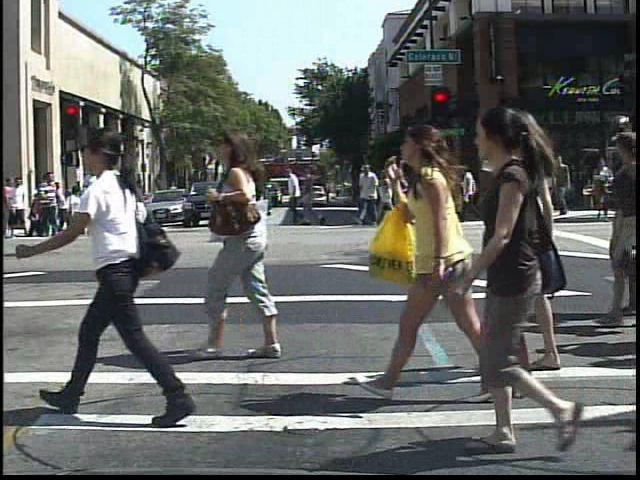person: (430, 97, 620, 464), (30, 116, 183, 433), (180, 118, 309, 364), (475, 106, 589, 377), (385, 118, 484, 402), (79, 160, 110, 238), (489, 152, 521, 224), (35, 165, 61, 236), (6, 172, 30, 242), (103, 176, 123, 215), (165, 175, 183, 213)
